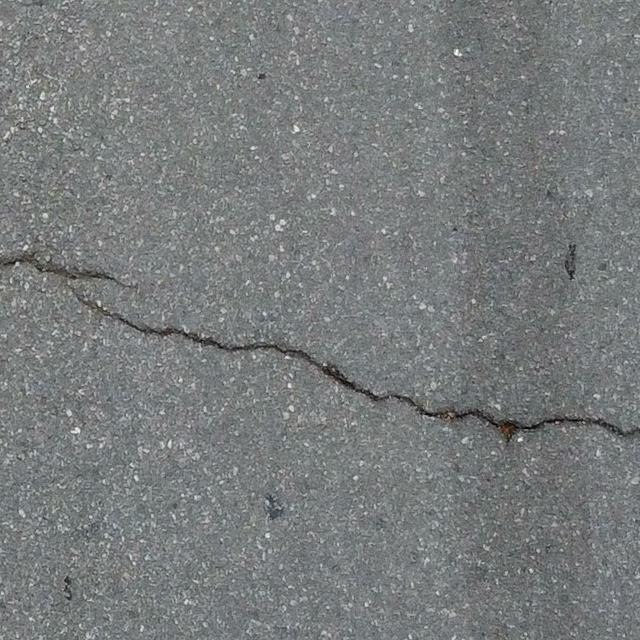TransverseCrack: (1, 255, 640, 442)
